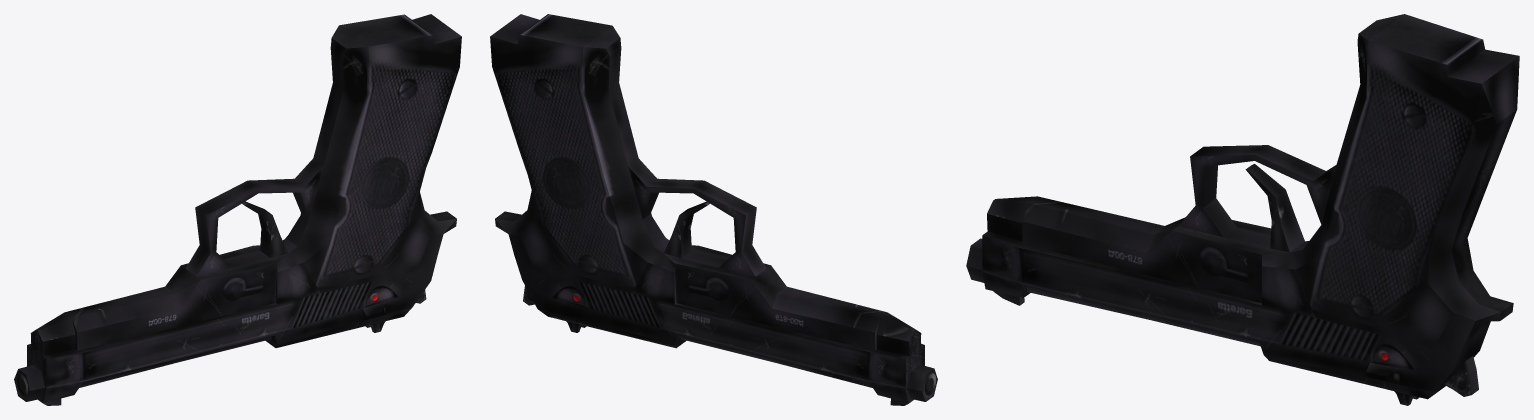
File: pistol.fbx
3 views of the same model, side by side, from view 1: azimuth 30°, elevation 25°; view 2: azimuth 150°, elevation 25°; view 3: azimuth 330°, elevation 25° (orthographic). The views are drawn at different scales.
Parts seen in each view (by area): view 1: objdefault; view 2: objdefault; view 3: objdefault.
Boxes of the visible parts, <box> form: objdefault: <box>14,14,461,405</box>; objdefault: <box>490,14,937,405</box>; objdefault: <box>966,14,1519,405</box>.
Bounding box in the file's own units: 6.04 × 3.99 × 0.7585.
1 material, 1 textured.
